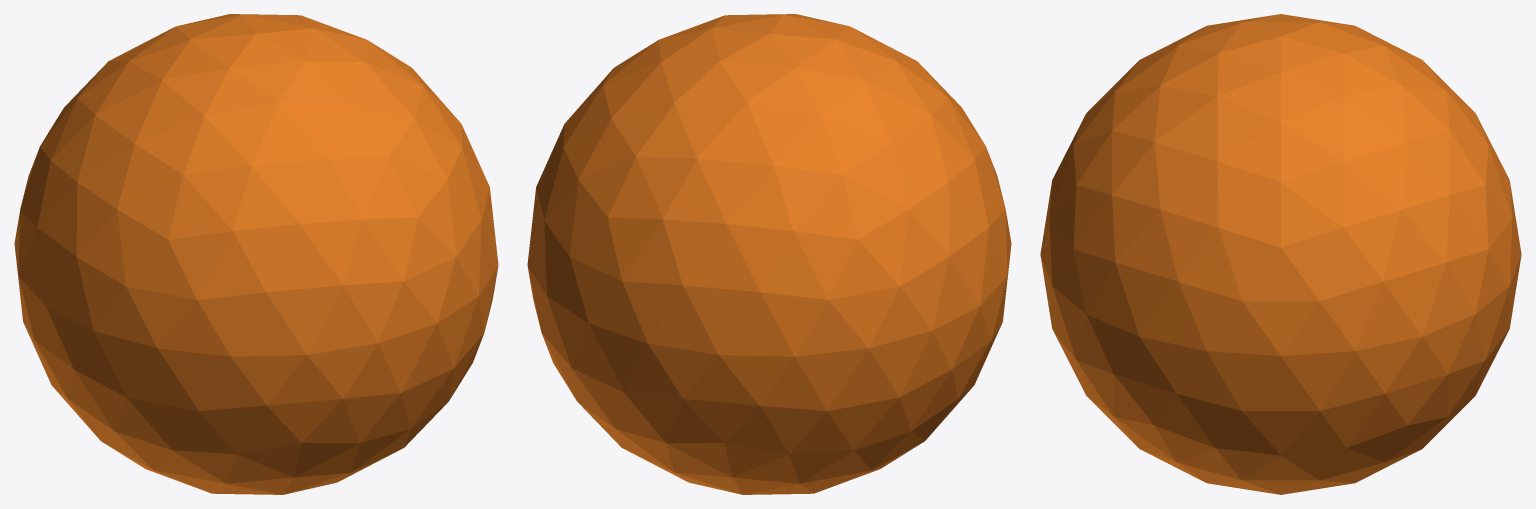
Rendered from Sun.fbx.
3 views of the same model, side by side, from view 1: azimuth 30°, elevation 25°; view 2: azimuth 150°, elevation 25°; view 3: azimuth 270°, elevation 25° (orthographic).
Visible parts, largest first — view 1: Sun; view 2: Sun; view 3: Sun.
Boxes of the visible parts, x1=… form: Sun: x1=14, y1=14, x2=498, y2=494; Sun: x1=527, y1=14, x2=1011, y2=494; Sun: x1=1040, y1=14, x2=1521, y2=494.
Size of the model in its own units: 772 by 772 by 772.
